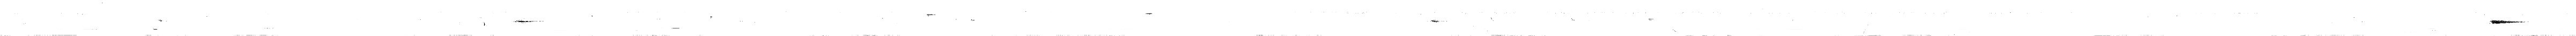meteor: (2491, 20, 2527, 25), (516, 20, 540, 23)
